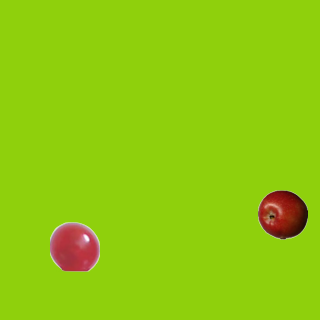Apple Braeburn: (257, 189, 307, 239)
Redcurrant: (49, 221, 99, 271)
